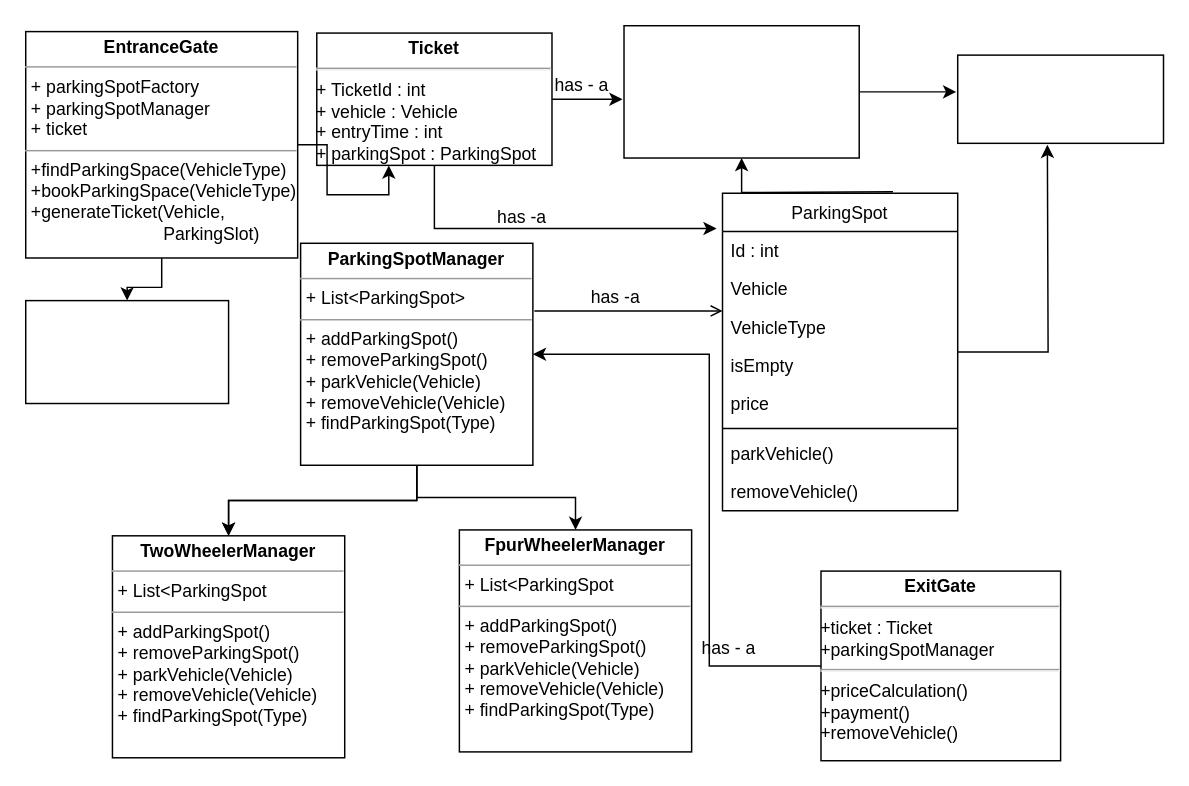
This 1189x786 diagram has some shape labels left out. Here are the shapes that lost their labels. From the top down, the centre of each, then its label:
At pixel 741 91: "Vehicle + VehicleNo : String + VehicleType + getVehicleNo() : String".
At pixel 1060 98: "VehicleType(enum) 2 wheeler 4 wheeler".
At pixel 126 351: "ParkingSpotFactory +getParkingSpotManager (VehicleType)".
